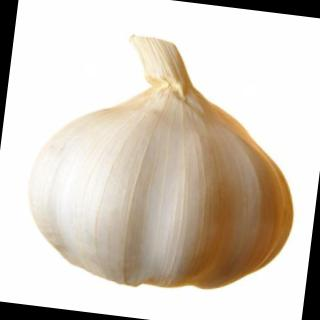Bawang Putih: (19, 72, 309, 306)
